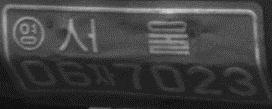0: (20, 58, 55, 87), (150, 64, 185, 93)
2: (188, 64, 220, 95)
3: (222, 66, 256, 96)
6: (57, 60, 89, 88)
7: (115, 62, 143, 90)
서울_D: (58, 17, 190, 55)
영: (11, 15, 45, 50)
자: (90, 62, 112, 87)
